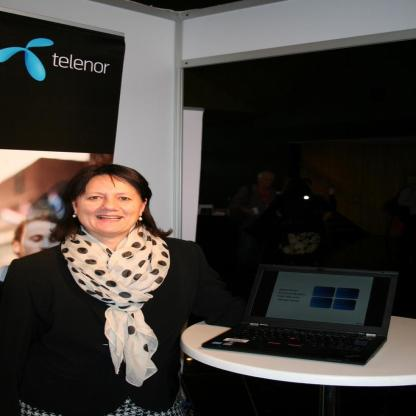board: (197, 266, 401, 369)
